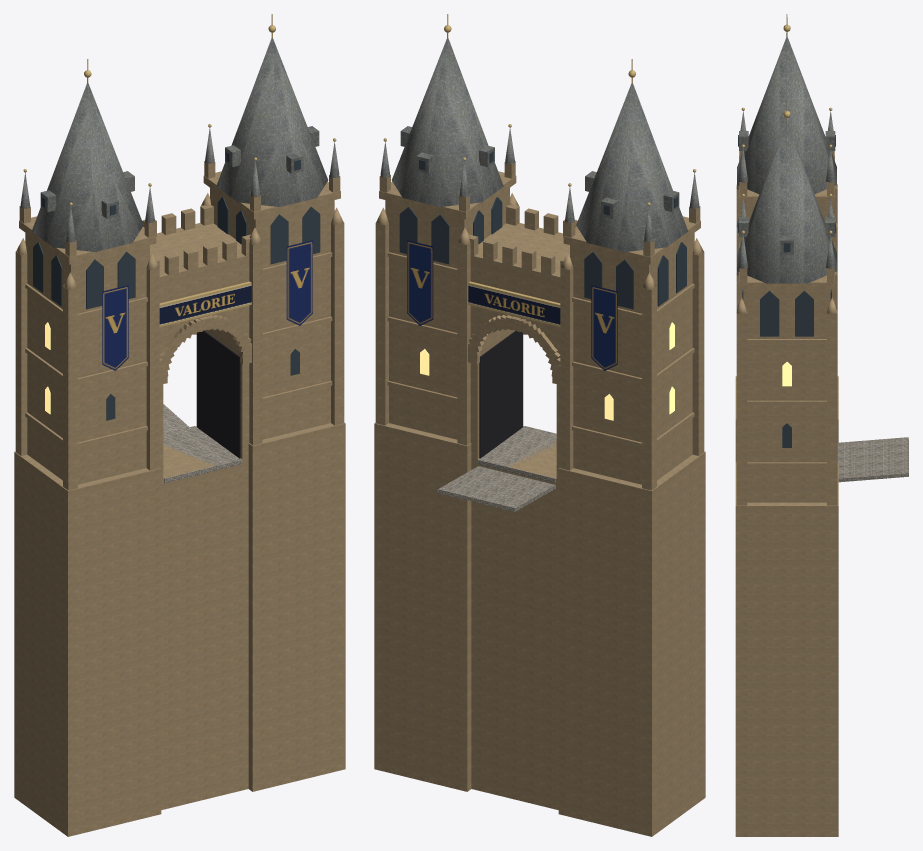
File: gate_valorie.glb
3 views of the same model, side by side, from view 1: azimuth 30°, elevation 25°; view 2: azimuth 150°, elevation 25°; view 3: azimuth 270°, elevation 25° (orthographic). The views are drawn at different scales.
Visible parts, largest first — view 1: gate_valorie; view 2: gate_valorie; view 3: gate_valorie.
Part boxes in pixels (left/top/right/bottom): gate_valorie: left=14, top=14, right=345, bottom=836; gate_valorie: left=374, top=14, right=705, bottom=836; gate_valorie: left=735, top=14, right=908, bottom=836.
Bounding box in the file's own units: 31.6 × 81.2 × 18.01.
Materials: 16 (8 with a texture image).
